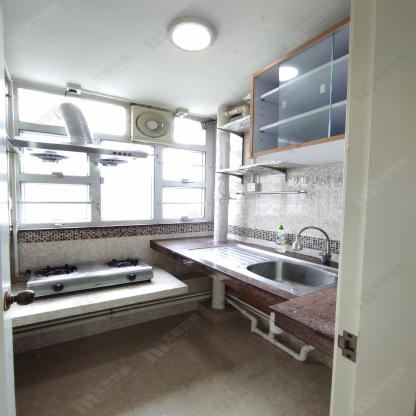Cupboard: (252, 15, 356, 153)
Exhaust Fan: (130, 105, 173, 146)
Exhaust Hood: (10, 101, 149, 166)
Faucet: (289, 225, 335, 264)
Sink: (188, 242, 339, 295)
Stove: (21, 257, 153, 296)
